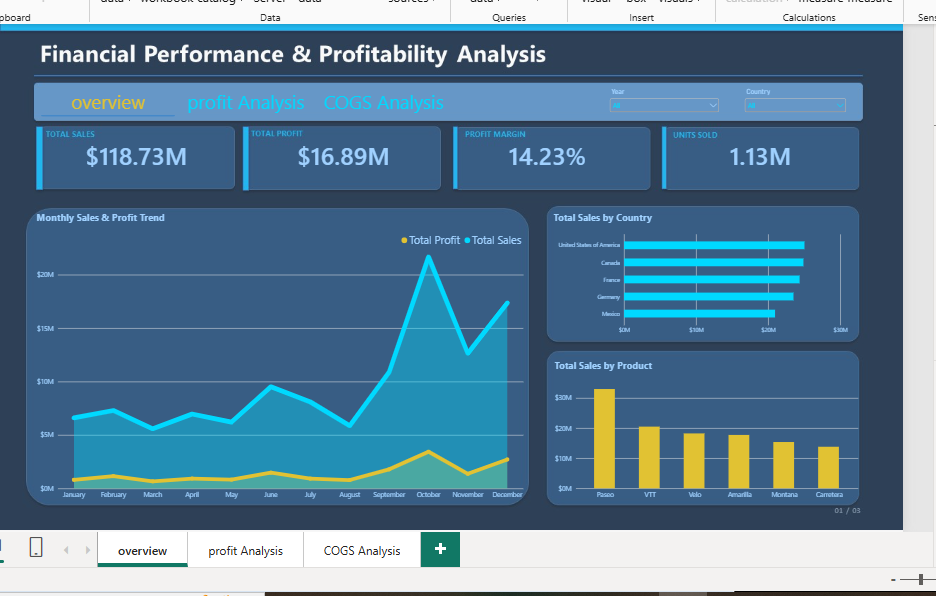

Layout of this report page (visuals, bound fields, positions):
{"tool":"powerbi","page":{"name":"overview","canvas":[1920,1080],"ordinal":0},"visuals":[{"type":"card","fields":{"Values":["calculated.Total Sales"]},"box":[87.2,219,406.7,120],"z":0},{"type":"card","fields":{"Values":["calculated.Total Profit"]},"box":[526.7,220,406.7,120],"z":1000},{"type":"card","fields":{"Values":["calculated.Profit Margin %"]},"box":[960,220,406.7,120],"z":2000},{"type":"card","fields":{"Values":["calculated.Total Units Sold"]},"box":[1413.3,220,406.7,120],"z":3000},{"type":"lineChart","title":"Monthly Sales & Profit Trend","fields":{"Category":["Date.Date.Variation.Date Hierarchy.Month"],"Y":["calculated.Total Profit","calculated.Total Sales"]},"box":[61.7,382.7,1069.4,648.4],"z":4000},{"type":"clusteredBarChart","fields":{"Category":["Country.Country"],"Y":["calculated.Total Sales"]},"box":[1161.6,383,657.6,297.3],"z":5000},{"type":"clusteredColumnChart","fields":{"Category":["Product.Product"],"Y":["calculated.Total Sales"]},"box":[1162.9,697.3,678.2,333.8],"z":6000},{"type":"pageNavigator","box":[87.2,131.8,873.8,65.9],"z":7000},{"type":"slicer","fields":{"Values":["Date.Date.Variation.Date Hierarchy.Year"]},"box":[1275.6,121.2,274.3,76.5],"z":8000},{"type":"slicer","fields":{"Values":["Country.Country"]},"box":[1562.6,121.2,257.2,76.5],"z":9000}]}

Visuals, with their boxes on the page's 1920x1080 design canvas (x1, y1, x2, y2). These are canvas units, not pixel positions in the 936x596 screenshot, which may show the page scaled, cropped or inside an application window:
card - calculated.Total Sales: rect(87, 219, 494, 339)
card - calculated.Total Profit: rect(527, 220, 933, 340)
card - calculated.Profit Margin %: rect(960, 220, 1367, 340)
card - calculated.Total Units Sold: rect(1413, 220, 1820, 340)
"Monthly Sales & Profit Trend" lineChart: rect(62, 383, 1131, 1031)
clusteredBarChart - Country.Country x calculated.Total Sales: rect(1162, 383, 1819, 680)
clusteredColumnChart - Product.Product x calculated.Total Sales: rect(1163, 697, 1841, 1031)
pageNavigator: rect(87, 132, 961, 198)
slicer - Date.Date.Variation.Date Hierarchy.Year: rect(1276, 121, 1550, 198)
slicer - Country.Country: rect(1563, 121, 1820, 198)
